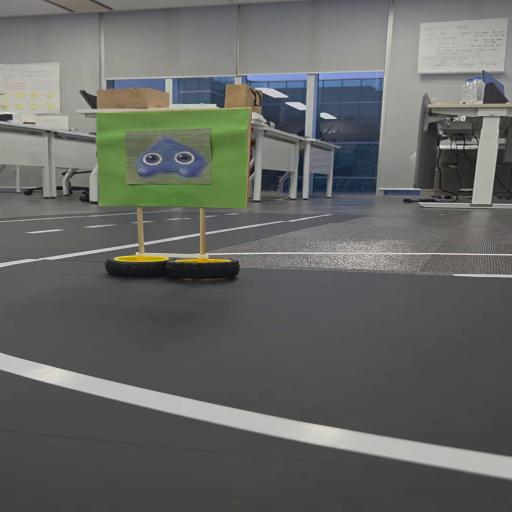Sign_B: (92, 107, 262, 293)
